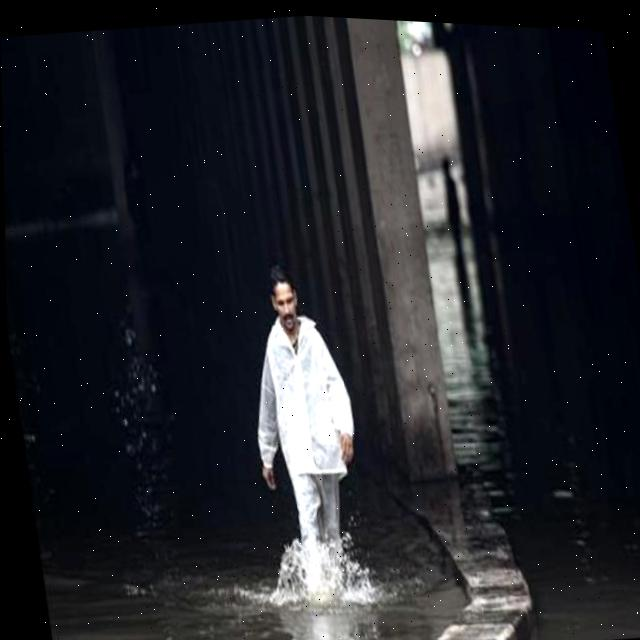civilian: (197, 240, 419, 621), (426, 141, 475, 263)
